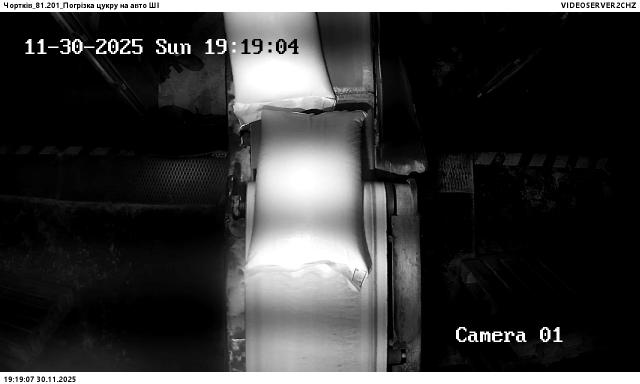bag: (246, 107, 370, 288), (224, 12, 336, 126)
